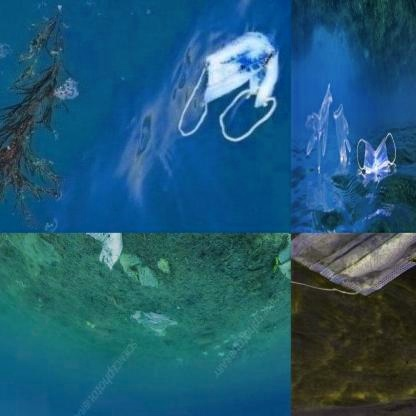Mask: (174, 30, 275, 146), (291, 233, 415, 296), (352, 118, 401, 185), (126, 293, 184, 347), (76, 233, 134, 286), (258, 233, 290, 285)
glove: (303, 76, 332, 172), (332, 101, 352, 176)
